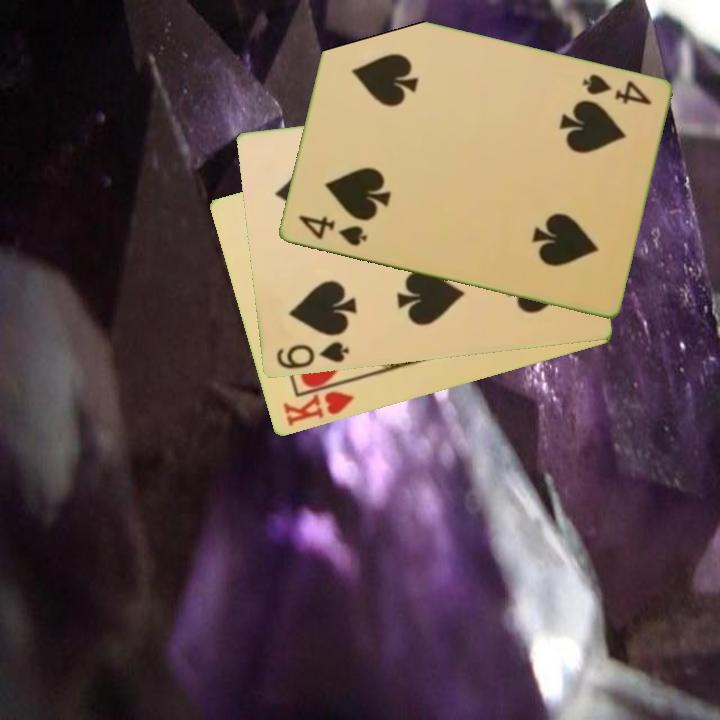4s: (294, 212, 370, 250), (578, 71, 654, 109)
6s: (272, 338, 352, 372)
Kh: (279, 377, 357, 430)
